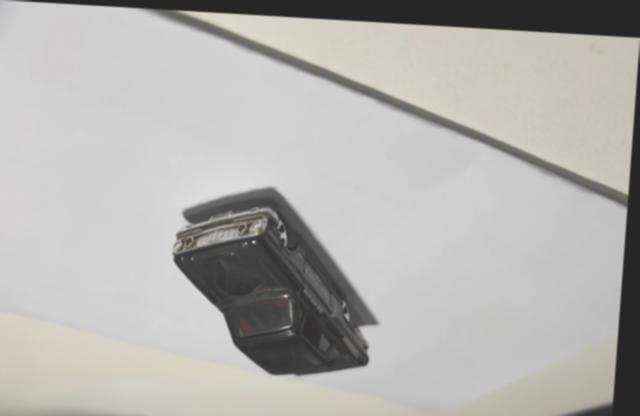01_FORD: (175, 199, 383, 371)
